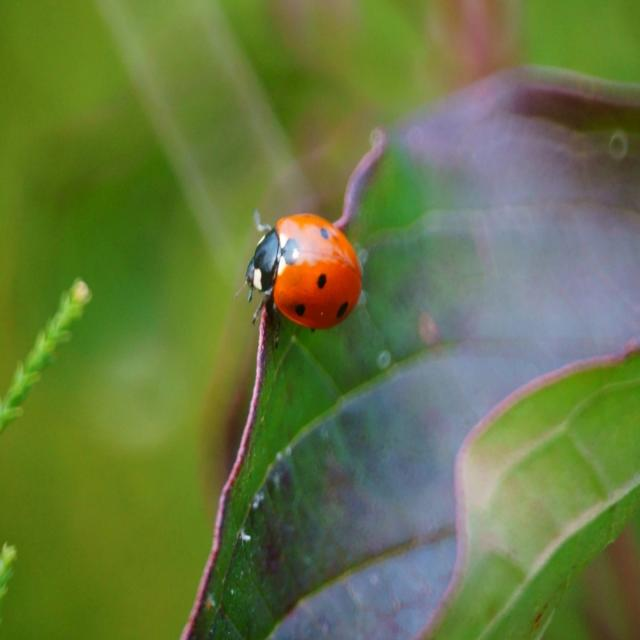ladybug: (246, 214, 362, 331)
